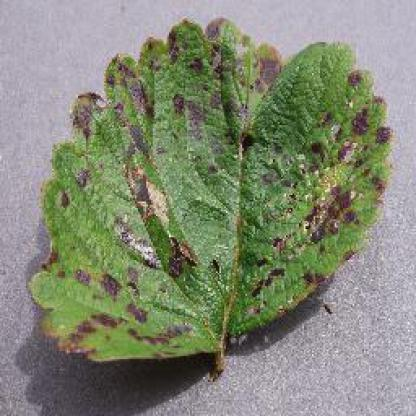leaf scorch: (21, 6, 405, 392)
